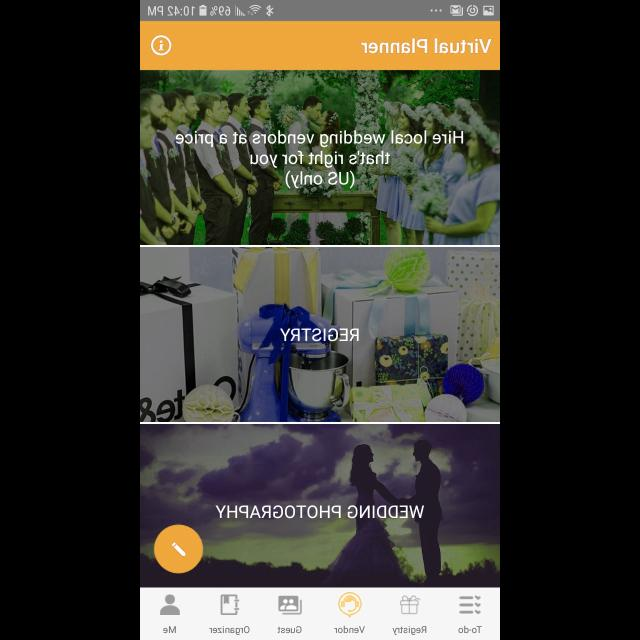icon: (153, 524, 203, 574), (278, 595, 302, 615), (160, 594, 180, 616), (220, 594, 240, 616), (150, 36, 172, 56), (459, 596, 481, 614), (400, 596, 420, 614)
image: (140, 70, 500, 246), (140, 246, 500, 422), (140, 424, 500, 588), (338, 592, 362, 618)
text: (175, 130, 463, 190), (216, 506, 424, 518), (361, 38, 492, 54), (280, 328, 358, 342), (210, 625, 250, 635), (392, 625, 426, 635), (334, 625, 364, 633), (458, 625, 482, 633), (278, 625, 302, 633), (163, 626, 177, 634)
uppertaskbar: (140, 1, 500, 22)
